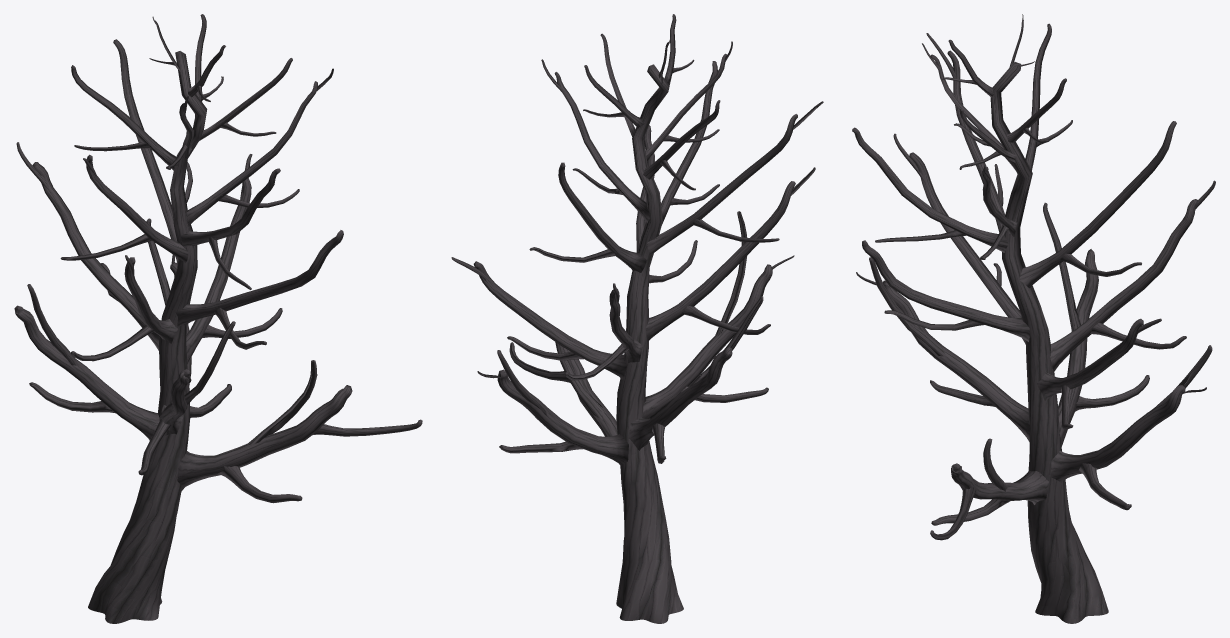
File: DeadTree_2.gltf
3 renders of one model, left to right at view 1: azimuth 30°, elevation 25°; view 2: azimuth 150°, elevation 25°; view 3: azimuth 270°, elevation 25°, orthographic. The views are drawn at different scales.
Parts seen in each view (by area): view 1: DeadTree_2; view 2: DeadTree_2; view 3: DeadTree_2.
Boxes of the visible parts, left/top/right/bottom form: DeadTree_2: left=14, top=14, right=422, bottom=623; DeadTree_2: left=451, top=14, right=823, bottom=623; DeadTree_2: left=852, top=14, right=1215, bottom=623.
Size of the model in its own units: 6.73 by 11.49 by 6.38.
Materials: 1 (1 with a texture image).
